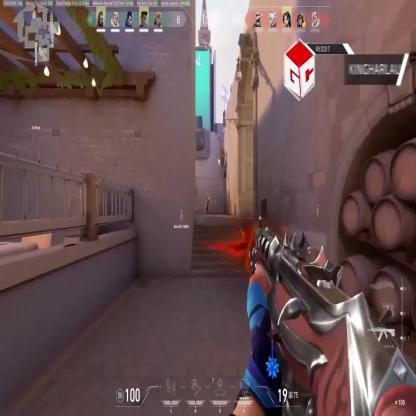enemy: (204, 193, 210, 214)
enemy_head: (206, 194, 208, 197)
